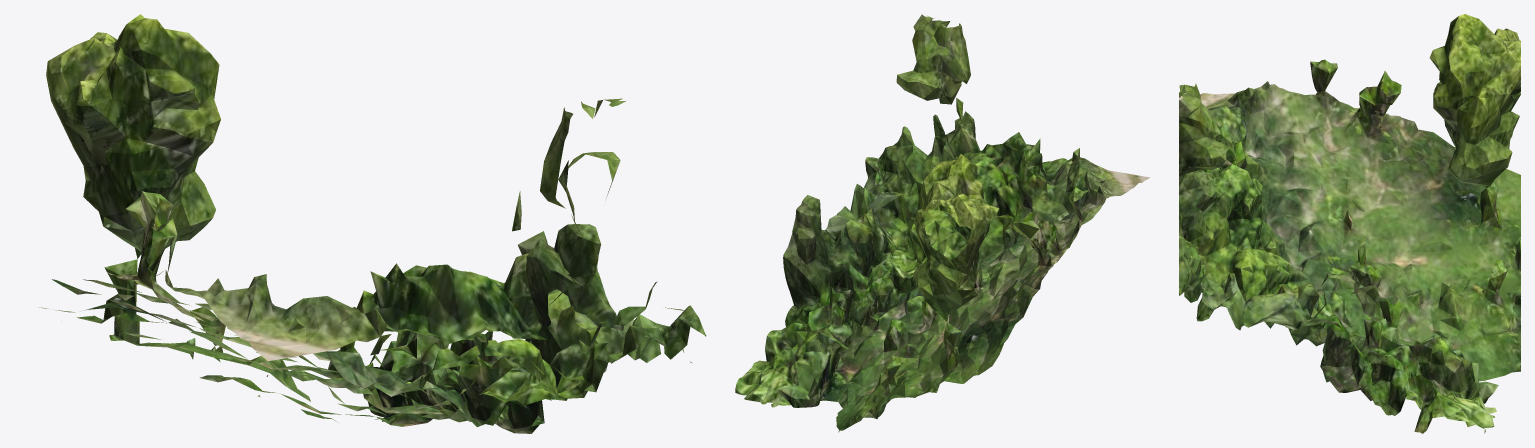
The picture shows the model from 3 angles, left to right: view 1: azimuth 30°, elevation 25°; view 2: azimuth 150°, elevation 25°; view 3: azimuth 270°, elevation 25°; orthographic projection. The views are drawn at different scales.
Size of the model in its own units: 26.11 by 26.11 by 26.11.
Materials: 6 (6 with a texture image).
